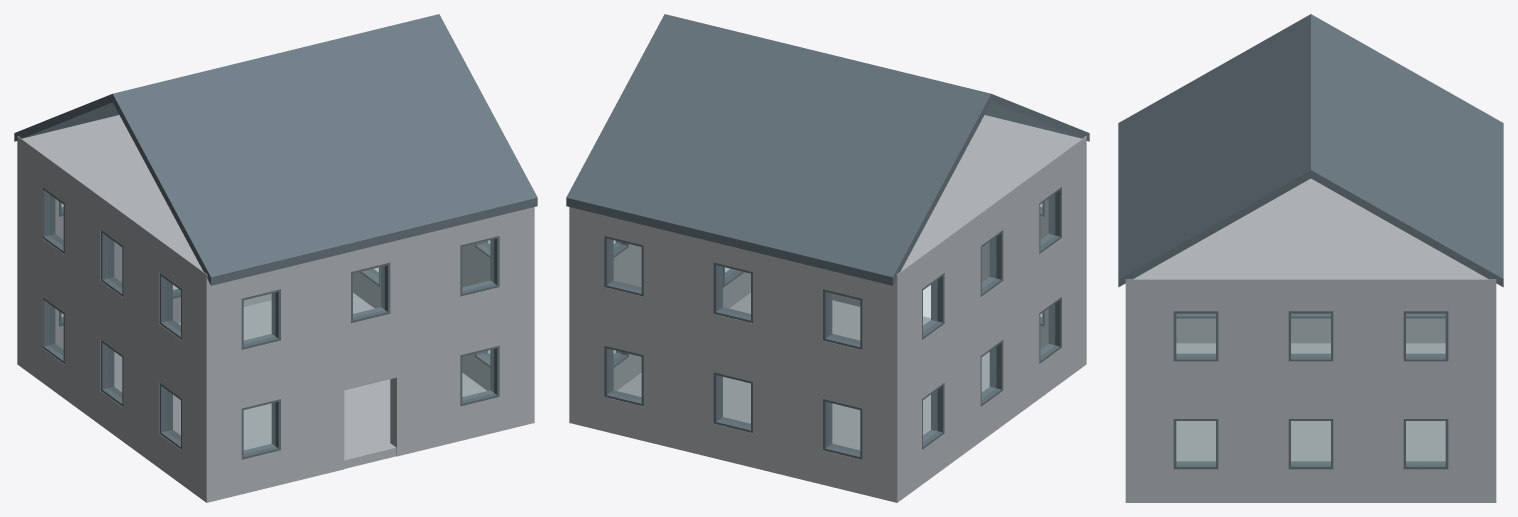
The model's file is house_2_lod1.glb.
3 views of the same model, side by side, from view 1: azimuth 30°, elevation 25°; view 2: azimuth 150°, elevation 25°; view 3: azimuth 270°, elevation 25° (orthographic). The views are drawn at different scales.
Parts seen in each view (by area): view 1: Roof shell baked, Wall_0 baked, Wall_3 baked, Ceiling baked, Floor baked, Wall_1 baked, Wall_2 baked, Glazing.001 baked, Glazing.003 baked, Glazing.002 baked, Glazing.004 baked, Glazing baked (+12 smaller); view 2: Roof shell baked, Wall_1 baked, Wall_3 baked, Ceiling baked, Floor baked, Wall_0 baked, Wall_2 baked, Glazing.006 baked, Glazing.009 baked, Glazing.005 baked, Glazing.008 baked, Glazing.010 baked (+13 smaller); view 3: Roof shell baked, Wall_2 baked, Ceiling baked, Floor baked, Wall_3 baked, Wall_0 baked, Wall_1 baked, Glazing.012 baked, Glazing.011 baked, Glazing.013 baked, Glazing.014 baked, Glazing.015 baked (+1 smaller).
Part boxes in pixels (left/top/right/bottom): Roof shell baked: left=14, top=14, right=537, bottom=285; Wall_0 baked: left=200, top=207, right=534, bottom=502; Wall_3 baked: left=24, top=150, right=199, bottom=497; Ceiling baked: left=17, top=115, right=208, bottom=283; Floor baked: left=114, top=293, right=486, bottom=468; Wall_1 baked: left=17, top=145, right=271, bottom=368; Wall_2 baked: left=353, top=244, right=490, bottom=390; Glazing.001 baked: left=462, top=349, right=493, bottom=400; Glazing.003 baked: left=353, top=266, right=384, bottom=317; Glazing.002 baked: left=244, top=293, right=275, bottom=343; Glazing.004 baked: left=462, top=239, right=493, bottom=290; Glazing baked: left=244, top=403, right=275, bottom=453; Roof shell baked: left=566, top=14, right=1089, bottom=285; Wall_1 baked: left=569, top=207, right=903, bottom=502; Wall_3 baked: left=904, top=150, right=1079, bottom=497; Ceiling baked: left=895, top=115, right=1086, bottom=283; Floor baked: left=617, top=293, right=989, bottom=450; Wall_0 baked: left=832, top=145, right=1086, bottom=368; Wall_2 baked: left=613, top=244, right=750, bottom=390; Glazing.006 baked: left=719, top=376, right=750, bottom=427; Glazing.009 baked: left=719, top=266, right=750, bottom=317; Glazing.005 baked: left=610, top=349, right=641, bottom=400; Glazing.008 baked: left=610, top=239, right=641, bottom=290; Glazing.010 baked: left=828, top=293, right=859, bottom=343; Roof shell baked: left=1118, top=14, right=1503, bottom=287; Wall_2 baked: left=1138, top=288, right=1483, bottom=502; Ceiling baked: left=1125, top=178, right=1496, bottom=287; Floor baked: left=1176, top=343, right=1445, bottom=461; Wall_3 baked: left=1176, top=318, right=1445, bottom=343; Wall_0 baked: left=1125, top=288, right=1138, bottom=502; Wall_1 baked: left=1483, top=288, right=1496, bottom=502; Glazing.012 baked: left=1291, top=421, right=1330, bottom=464; Glazing.011 baked: left=1176, top=421, right=1215, bottom=464; Glazing.013 baked: left=1406, top=421, right=1445, bottom=464; Glazing.014 baked: left=1176, top=314, right=1215, bottom=356; Glazing.015 baked: left=1291, top=314, right=1330, bottom=356.
Bounding box in the file's own units: 10 × 9.9 × 10.4.
